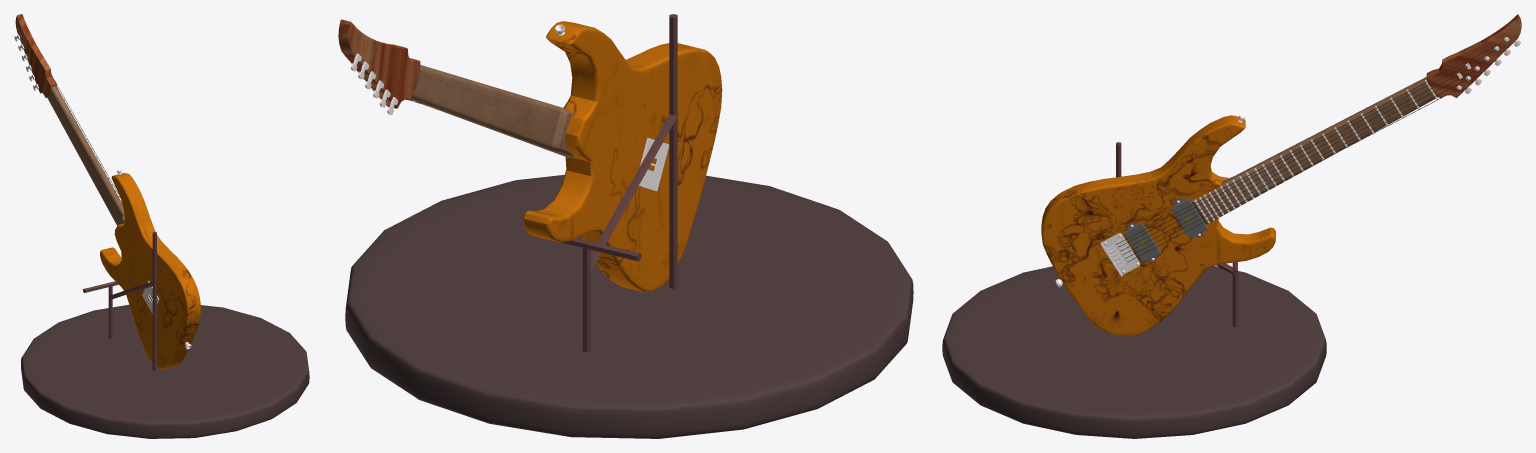
File: original.glb
3 views of the same model, side by side, from view 1: azimuth 30°, elevation 25°; view 2: azimuth 150°, elevation 25°; view 3: azimuth 270°, elevation 25° (orthographic). The views are drawn at different scales.
Visible parts, largest first — view 1: pCylinder12, main_guitar_shape, guitar_holder, end_wire_holder, pCylinder13; view 2: pCylinder12, main_guitar_shape, guitar_holder, end_wire_holder, pCylinder13, pCylinder16, pCylinder14, pCube46, pCylinder15; view 3: pCylinder12, main_guitar_shape, guitar_holder, end_wire_holder, polySurface30, pCube28, pCube27, wire_edjust.
Part boxes in pixels (x1,y1,x2,y2): pCylinder12: (21,304,309,438); main_guitar_shape: (100,173,200,369); guitar_holder: (47,86,124,225); end_wire_holder: (15,14,56,97); pCylinder13: (152,232,156,371); pCylinder12: (345,175,913,438); main_guitar_shape: (523,21,722,292); guitar_holder: (411,65,573,157); end_wire_holder: (338,19,420,108); pCylinder13: (669,14,677,288); pCylinder16: (591,114,677,270); pCylinder14: (582,245,590,352); pCube46: (639,137,669,191); pCylinder15: (561,238,641,261); pCylinder12: (942,266,1326,438); main_guitar_shape: (1041,115,1275,336); guitar_holder: (1192,77,1438,224); end_wire_holder: (1426,14,1521,97); polySurface30: (1194,80,1437,222); pCube28: (1123,222,1161,262); pCube27: (1170,197,1208,238); wire_edjust: (1100,233,1140,276).
Size of the model in its own units: 0.0828 by 0.0817 by 0.1247.
Materials: 9 (4 with a texture image).
